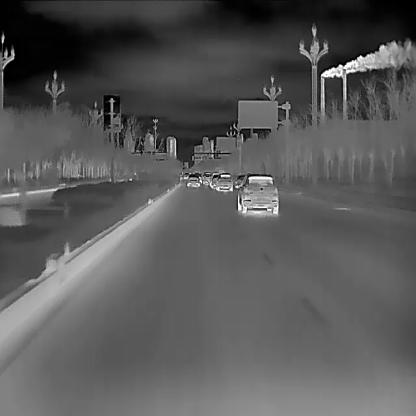car: (236, 173, 278, 216), (216, 172, 231, 190), (187, 174, 200, 186)
